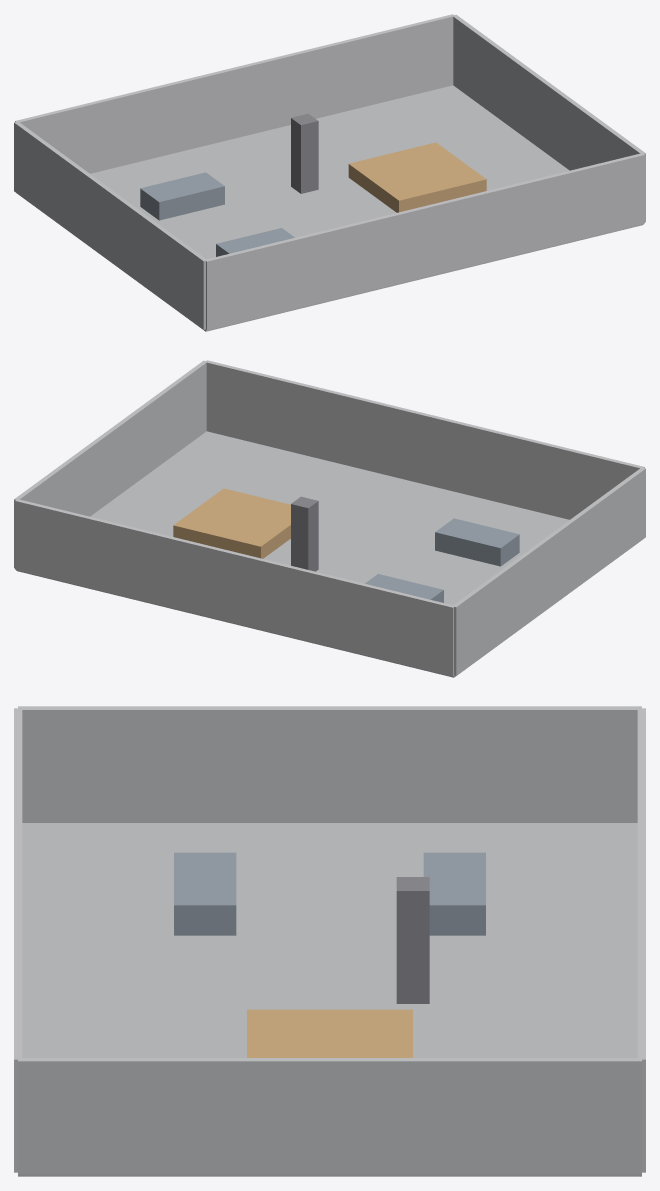
The model's file is hospital_room.glb.
3 renders of one model, top to bottom at view 1: azimuth 30°, elevation 25°; view 2: azimuth 150°, elevation 25°; view 3: azimuth 270°, elevation 25°, orthographic. The views are drawn at different scales.
Parts seen in each view (by area): view 1: geometry_2, geometry_0, geometry_1, geometry_3, geometry_4, geometry_7, geometry_5, geometry_8, geometry_6; view 2: geometry_1, geometry_0, geometry_2, geometry_3, geometry_4, geometry_7, geometry_6, geometry_8, geometry_5; view 3: geometry_0, geometry_4, geometry_3, geometry_7, geometry_6, geometry_5, geometry_8, geometry_2, geometry_1.
Boxes of the visible parts, x1,y1,x2,y2 form: geometry_2: (205, 153, 644, 330); geometry_0: (21, 85, 643, 331); geometry_1: (15, 14, 454, 173); geometry_3: (14, 122, 206, 329); geometry_4: (453, 14, 645, 222); geometry_7: (348, 142, 486, 212); geometry_5: (140, 172, 224, 220); geometry_8: (291, 113, 318, 193); geometry_6: (216, 228, 294, 256); geometry_1: (15, 499, 454, 676); geometry_0: (16, 431, 638, 677); geometry_2: (205, 360, 644, 519); geometry_3: (453, 468, 645, 675); geometry_4: (14, 360, 206, 568); geometry_7: (173, 488, 290, 558); geometry_6: (435, 518, 519, 566); geometry_8: (291, 496, 318, 571); geometry_5: (365, 574, 443, 602); geometry_0: (18, 823, 641, 1176); geometry_4: (18, 1058, 641, 1174); geometry_3: (18, 706, 641, 822); geometry_7: (247, 1009, 412, 1057); geometry_6: (174, 852, 236, 935); geometry_5: (423, 852, 485, 935); geometry_8: (396, 877, 429, 1003); geometry_2: (14, 708, 22, 1172); geometry_1: (637, 708, 645, 1172).
Size of the model in its own units: 20.2 by 3.1 by 15.2.
